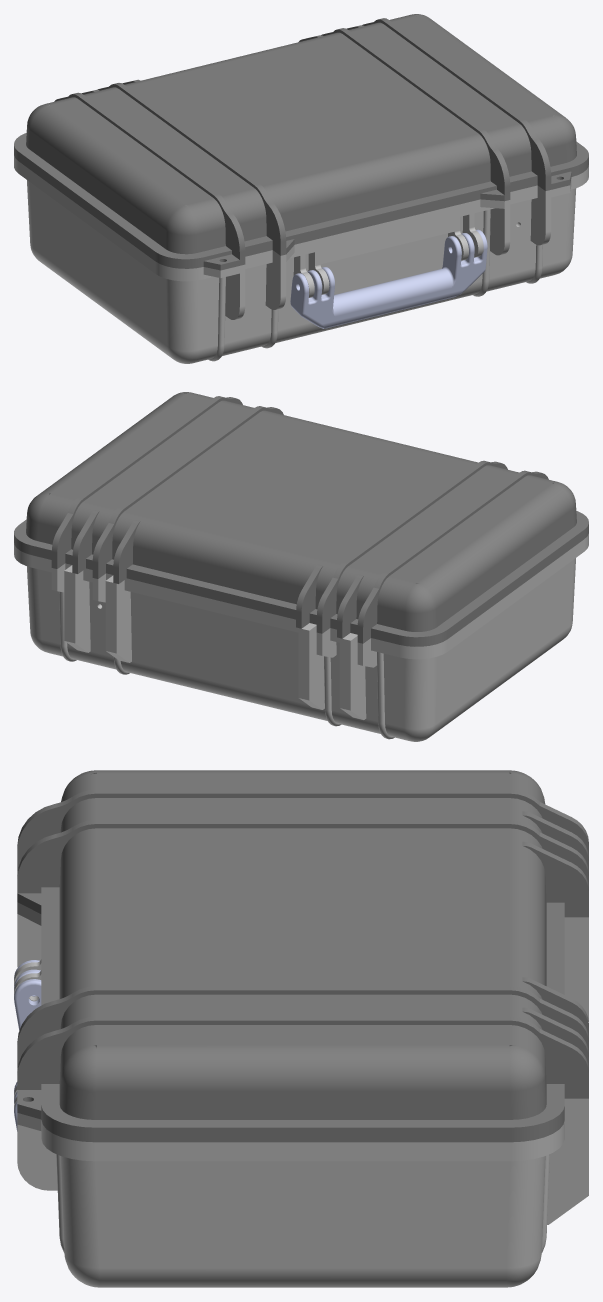
File: case.glb
3 views of the same model, one above another, from view 1: azimuth 30°, elevation 25°; view 2: azimuth 150°, elevation 25°; view 3: azimuth 270°, elevation 25° (orthographic). The views are drawn at different scales.
Visible parts, largest first — view 1: NAUO2, NAUO1, NAUO3; view 2: NAUO2, NAUO1; view 3: NAUO2, NAUO1, NAUO3.
Part boxes in pixels (x1=…): NAUO2: x1=14, y1=14, x2=588, y2=270; NAUO1: x1=14, y1=155, x2=588, y2=363; NAUO3: x1=290, y1=229, x2=487, y2=328; NAUO2: x1=14, y1=392, x2=588, y2=646; NAUO1: x1=14, y1=533, x2=588, y2=741; NAUO2: x1=17, y1=770, x2=588, y2=1142; NAUO1: x1=14, y1=871, x2=588, y2=1287; NAUO3: x1=14, y1=960, x2=41, y2=1131.
Bounding box in the file's own units: 0.467 × 0.1707 × 0.3566.
